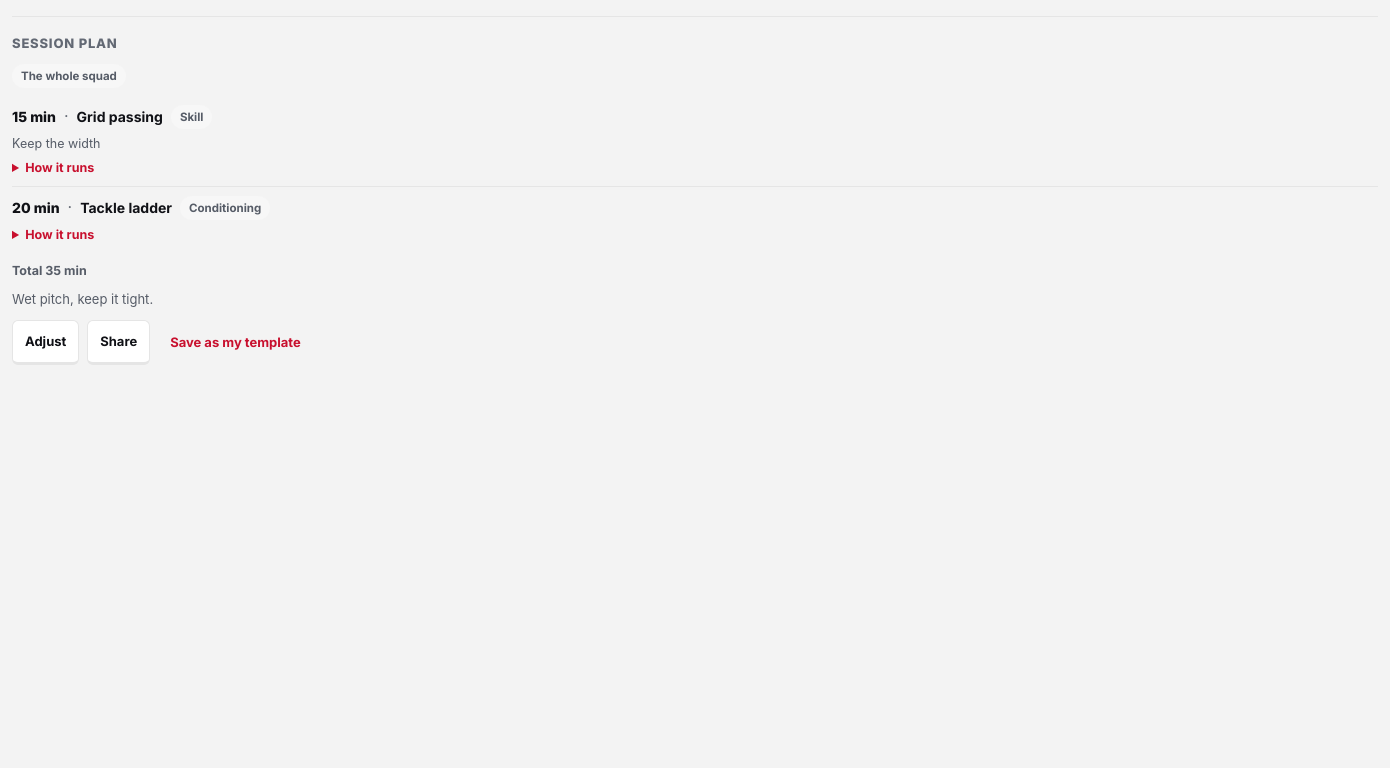
it: SessionPlan — the coach adjusting it › cancels back to the saved plan, writing nothing
Click the button "Adjust" at coordinates (46, 342), box [12,320,79,365]
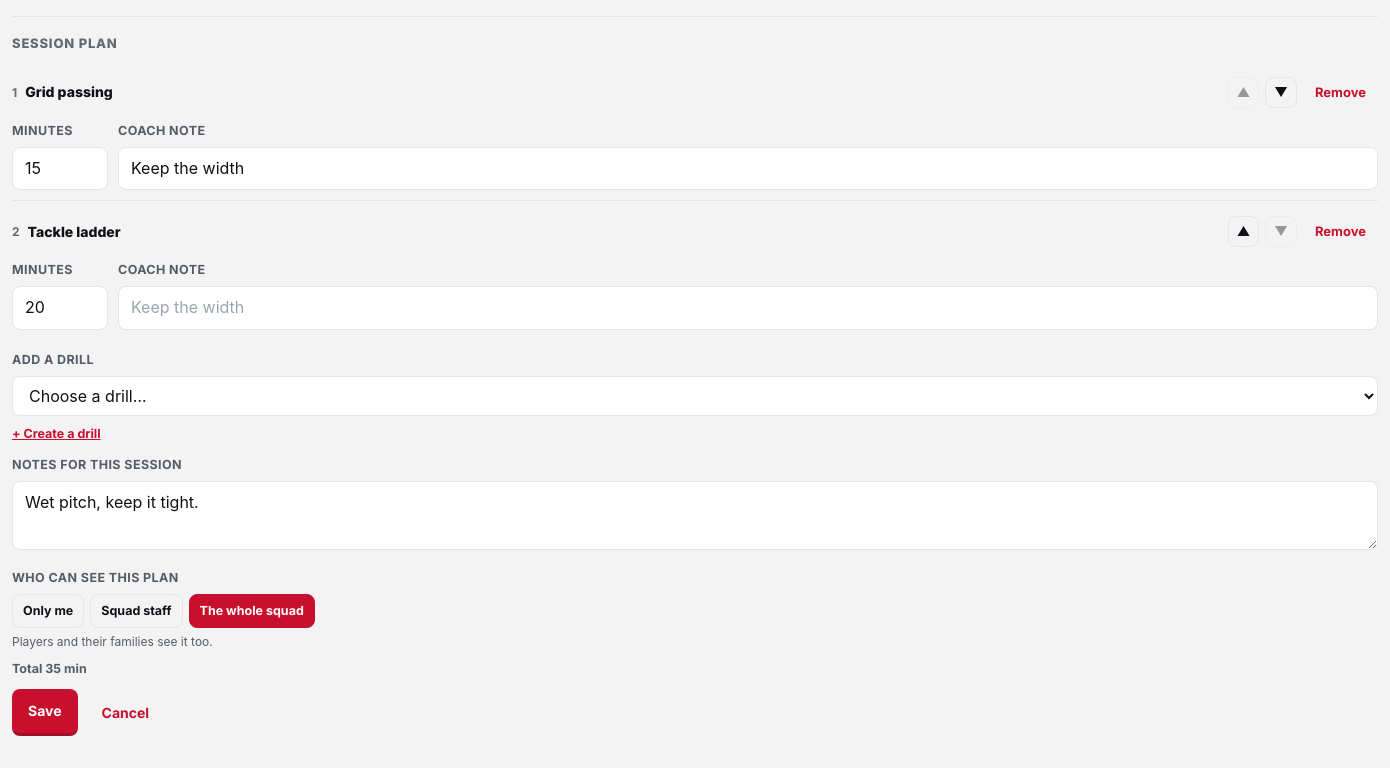
Replace the text in the number field labelled "Minutes" below "Grid passing" with "45" at coordinates (60, 168), box [12,147,108,190]
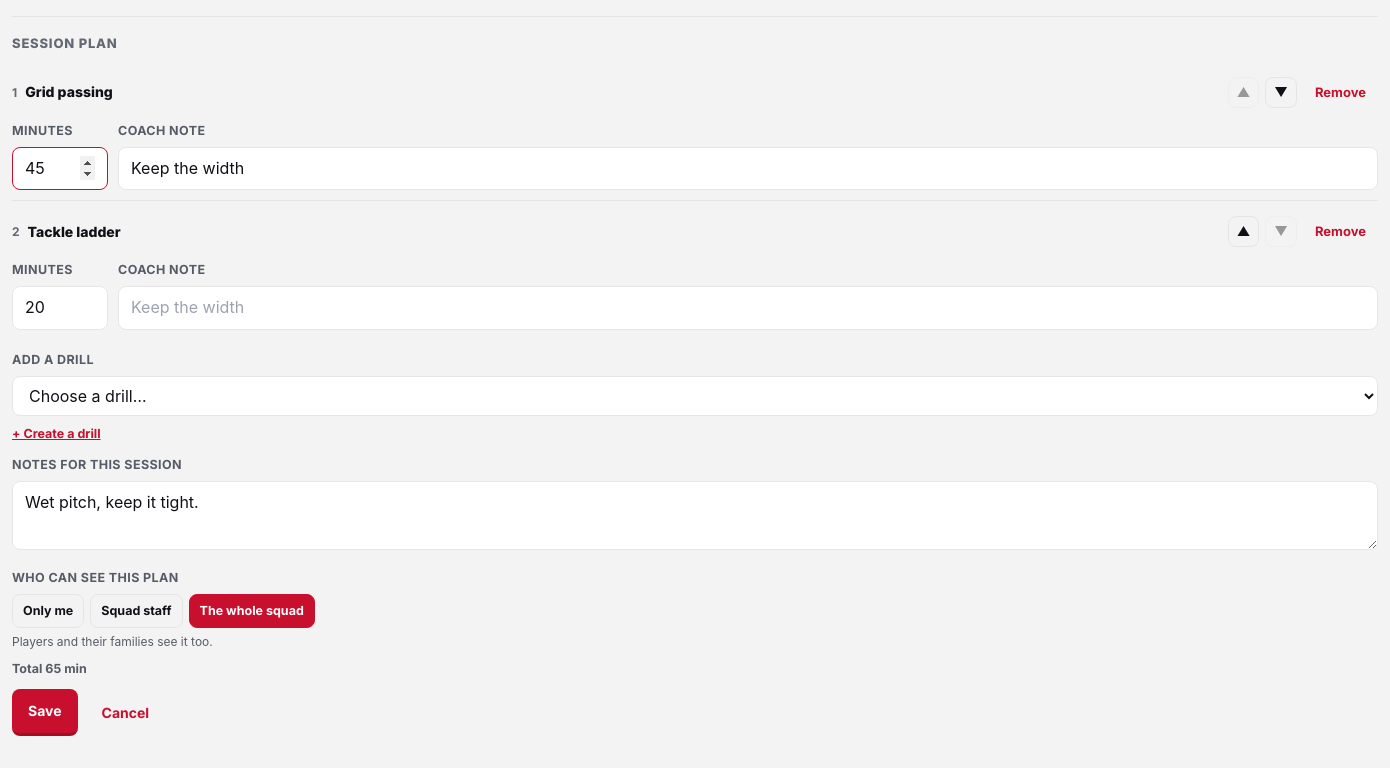
Click the button "Cancel" at coordinates (125, 713), box [86,690,165,736]
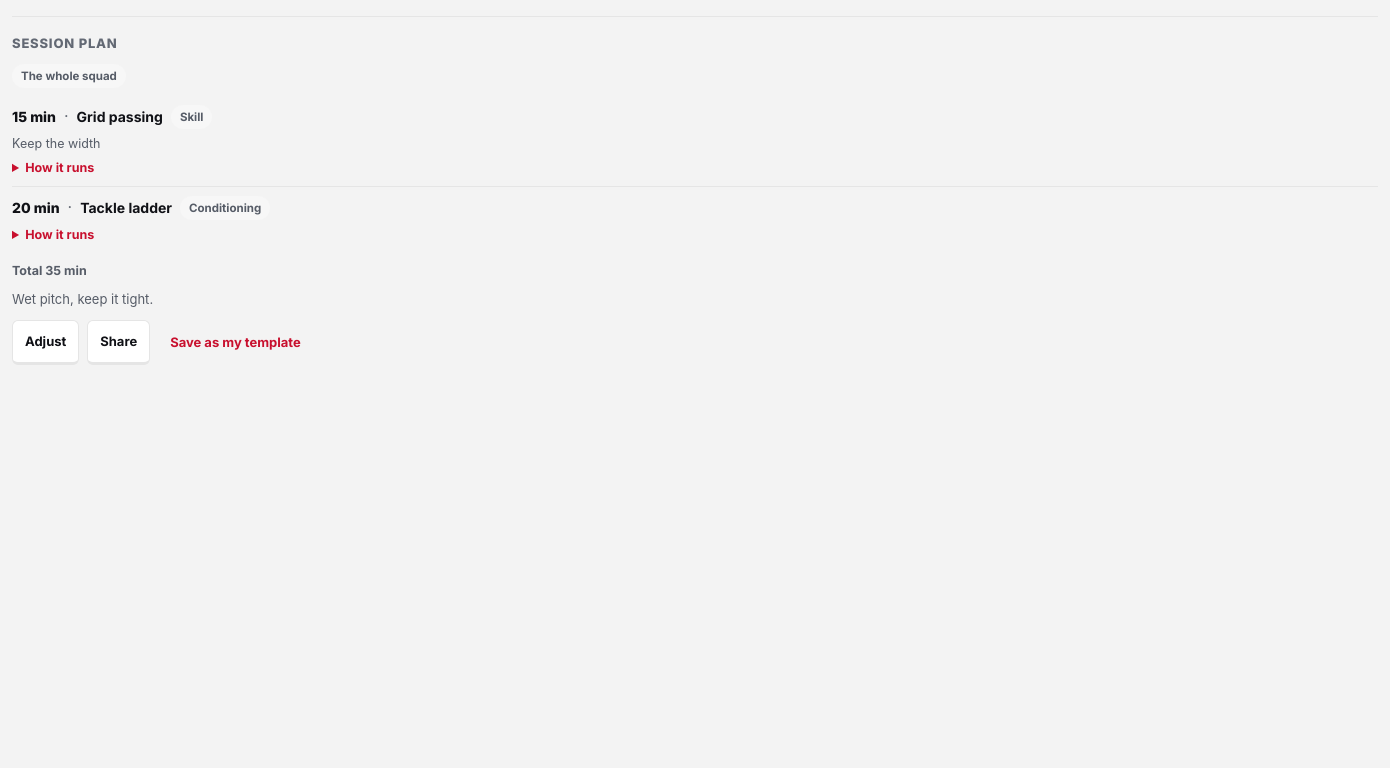
expect the list item "15 min · Grid passing Skill Keep the width How it runs" is shown: met, box [12,96,1378,187]
